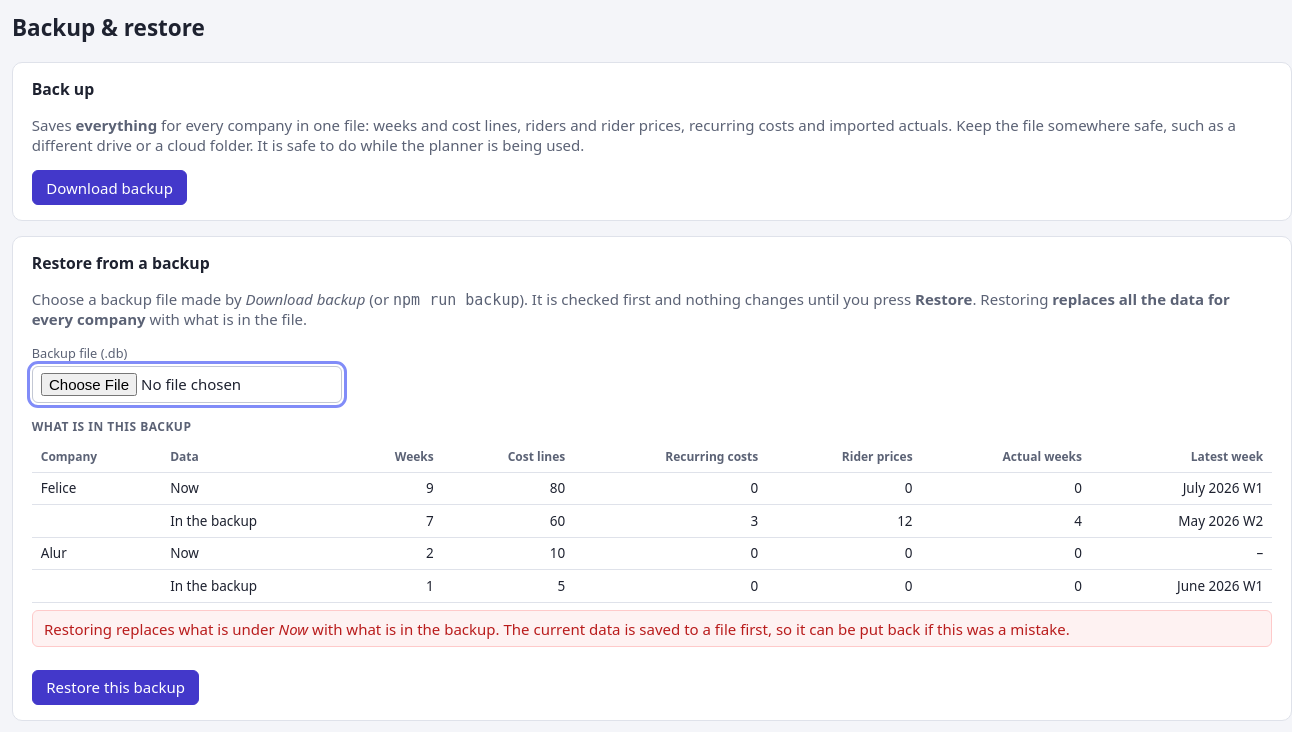
Scenario: restoring › asks first, then restores, then says where the old data was saved
Earlier steps of the test are not shown.
What coordinates should you click on to do the following:
click the button "Restore this backup"
I would click on:
 (116, 687)
Its box is [32, 670, 200, 705].
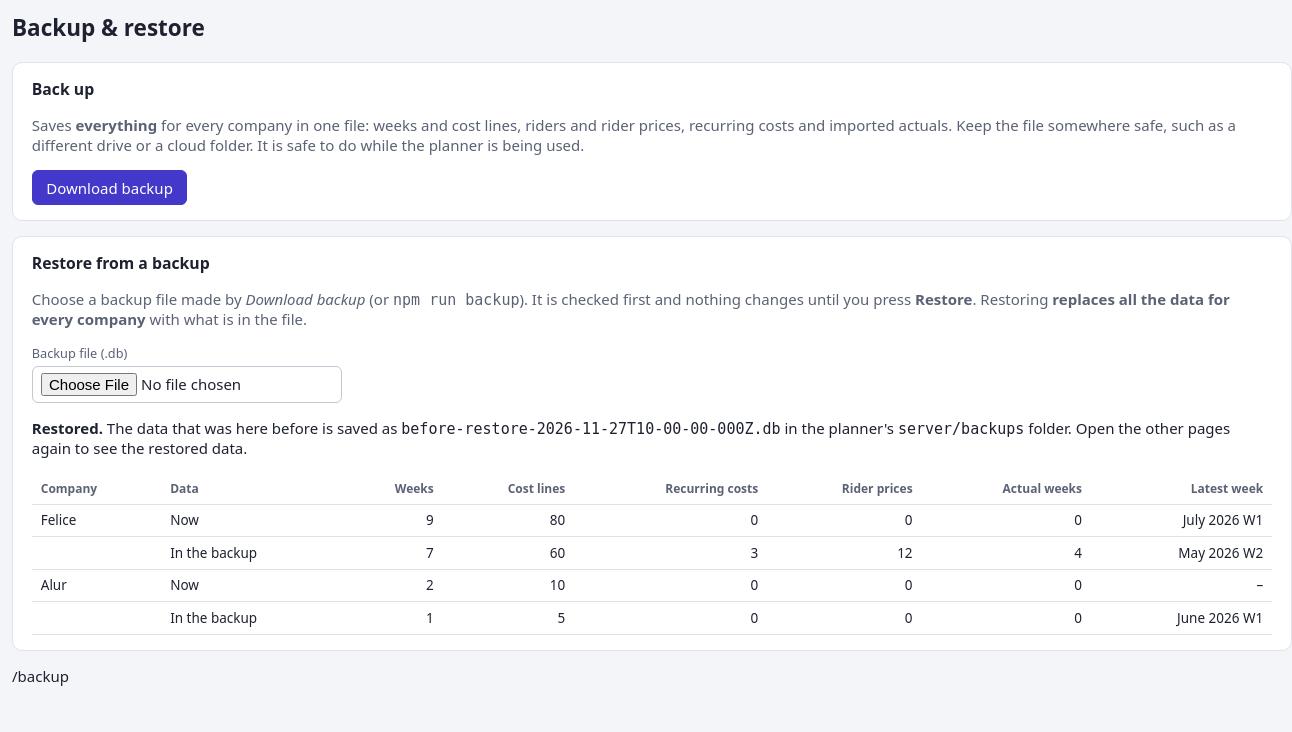
Now the text "Restored." is shown, box [32, 418, 103, 438]
Now the message shows "before-restore-2026-11-27T10-00-00-000Z.db", box [401, 420, 781, 438]
Now the button "Restore this backup" is gone
